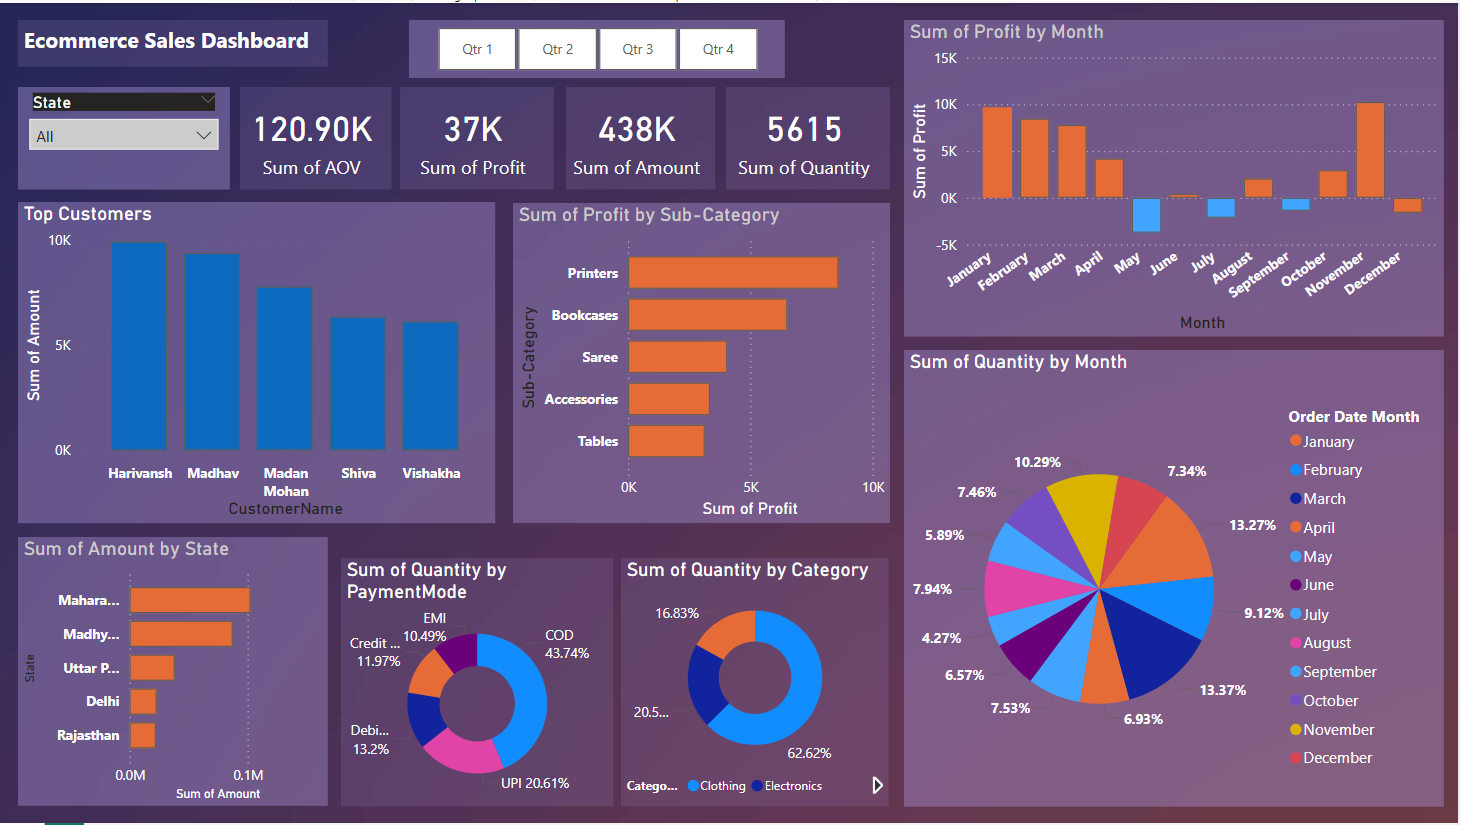

The dashboard page shown, as its layout file describes it:
{"tool":"powerbi","page":{"name":"Page 1","canvas":[1280,720],"ordinal":0},"visuals":[{"type":"columnChart","fields":{"Category":["Orders (1).Order Date.Variation.Date Hierarchy.Month"],"Y":["Details.Profit"]},"box":[793.7,14.6,473.7,278.2],"z":0},{"type":"pieChart","fields":{"Category":["Orders (1).Order Date.Variation.Date Hierarchy.Month"],"Y":["Details.Quantity"]},"box":[802.4,304.4,464.9,400.7],"z":1000},{"type":"barChart","fields":{"Category":["Details.Sub-Category"],"Y":["Details.Profit"]},"box":[450.3,176,330.7,281.1],"z":2000},{"type":"donutChart","fields":{"Category":["Details.Category"],"Y":["Details.Quantity"]},"box":[545.7,487.3,248,217.9],"z":3000},{"type":"donutChart","fields":{"Y":["Details.Quantity"],"Category":["Details.PaymentMode"]},"box":[299.6,487.3,239.3,217.9],"z":4000},{"type":"textbox","box":[15.6,14.6,272.3,40.9],"z":5000},{"type":"card","fields":{"Values":["Details.Profit"]},"box":[351.1,73.9,135.2,90.5],"z":6000},{"type":"card","fields":{"Values":["Details.Quantity"]},"box":[637.1,73.9,144,90.5],"z":7000},{"type":"card","fields":{"Values":["Details.Amount"]},"box":[497,73.9,131.3,90.5],"z":8000},{"type":"card","fields":{"Values":["Details.AOV"]},"box":[211.1,73.9,133.3,90.5],"z":9000},{"type":"clusteredBarChart","fields":{"Y":["Details.Amount"],"Category":["Orders (1).State"]},"box":[15.6,468.8,272.3,236.4],"z":10000},{"type":"columnChart","title":"Top Customers","fields":{"Category":["Orders (1).CustomerName"],"Y":["Details.Amount"]},"box":[15.6,175.1,419.2,282.1],"z":11000},{"type":"slicer","fields":{"Values":["Orders (1).Order Date.Variation.Date Hierarchy.Quarter"]},"box":[358.9,14.6,329.7,50.6],"z":11001},{"type":"slicer","fields":{"Values":["Orders (1).State"]},"box":[15.6,73.9,185.8,90.5],"z":11002}]}

Visuals, with their boxes in screenshot pixels (x1, y1, x2, y2), scaled from the page's 1280x720 canvas onto the 1460x825 screenshot:
columnChart - Orders (1).Order Date.Variation.Date Hierarchy.Month x Details.Profit: 905 17 1446 336
pieChart - Orders (1).Order Date.Variation.Date Hierarchy.Month x Details.Quantity: 915 349 1446 808
barChart - Details.Sub-Category x Details.Profit: 514 202 891 524
donutChart - Details.Category x Details.Quantity: 622 558 905 808
donutChart - Details.Quantity x Details.PaymentMode: 342 558 615 808
textbox: 18 17 328 64
card - Details.Profit: 400 85 555 188
card - Details.Quantity: 727 85 891 188
card - Details.Amount: 567 85 717 188
card - Details.AOV: 241 85 393 188
clusteredBarChart - Details.Amount x Orders (1).State: 18 537 328 808
"Top Customers" columnChart: 18 201 496 524
slicer - Orders (1).Order Date.Variation.Date Hierarchy.Quarter: 409 17 785 75
slicer - Orders (1).State: 18 85 230 188
